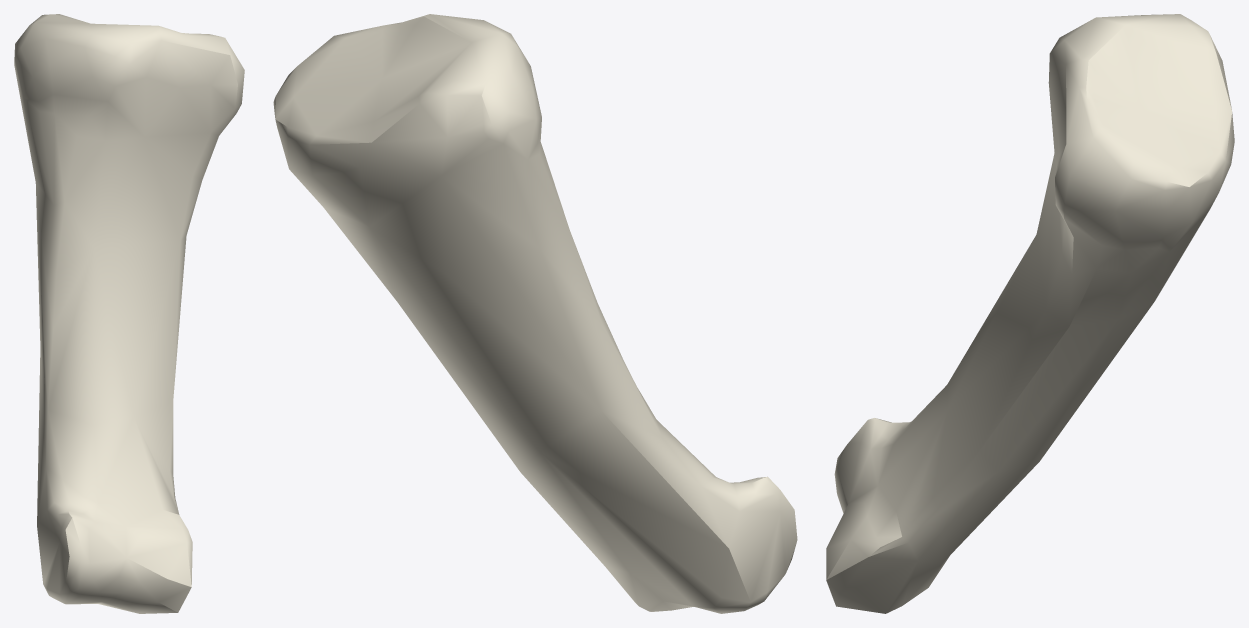
File: fma24451_fj3322.glb
3 renders of one model, left to right at view 1: azimuth 30°, elevation 25°; view 2: azimuth 150°, elevation 25°; view 3: azimuth 270°, elevation 25°, orthographic. The views are drawn at different scales.
Parts seen in each view (by area): view 1: FMA24451_FJ3322; view 2: FMA24451_FJ3322; view 3: FMA24451_FJ3322.
Boxes of the visible parts, x1,y1,x2,y2 form: FMA24451_FJ3322: (14, 14, 244, 613); FMA24451_FJ3322: (273, 14, 797, 613); FMA24451_FJ3322: (826, 14, 1234, 613).
Bounding box in the file's own units: 0.0218 × 0.0374 × 0.0227.
